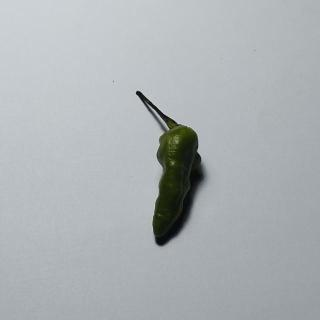Cabai Hijau: (125, 83, 210, 251)
